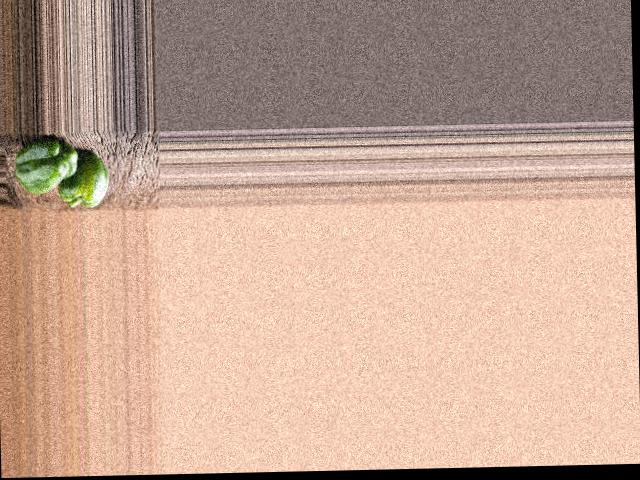bell_pepper: (15, 140, 81, 195)
